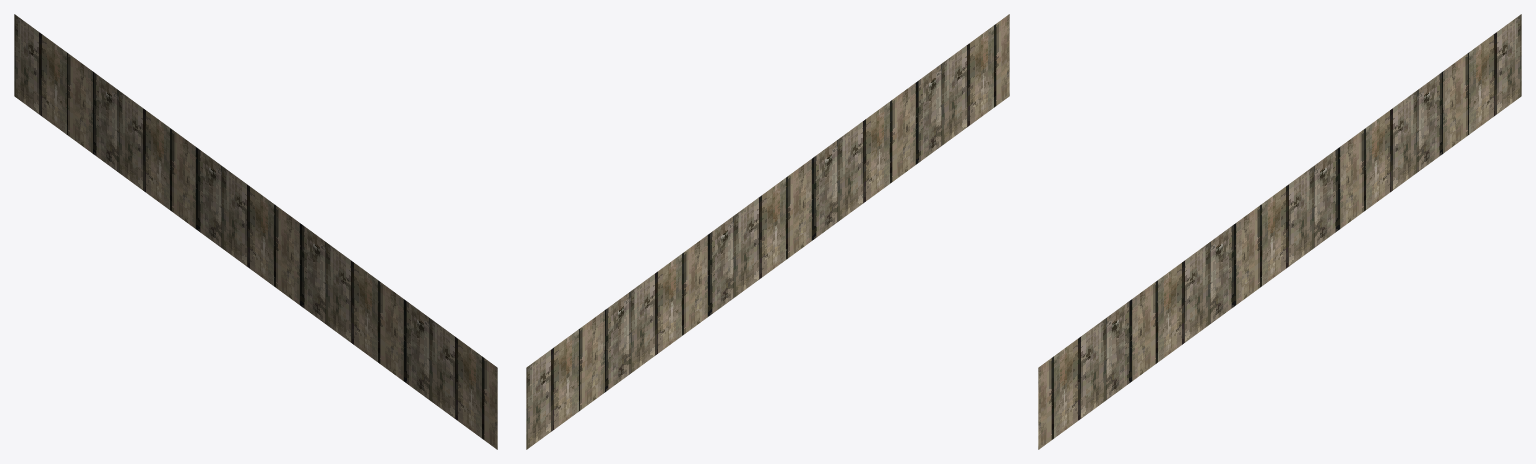
Rendered from LAKETOWN_PUB_PS_PUB_FLOORSIDE83837.fbx.
The picture shows the model from 3 angles, left to right: view 1: azimuth 30°, elevation 25°; view 2: azimuth 150°, elevation 25°; view 3: azimuth 330°, elevation 25°; orthographic projection.
Parts seen in each view (by area): view 1: LAKETOWN_PUB_PS_PUB_FLOORSIDE83837; view 2: LAKETOWN_PUB_PS_PUB_FLOORSIDE83837; view 3: LAKETOWN_PUB_PS_PUB_FLOORSIDE83837.
Part boxes in pixels (left/top/right/bottom): LAKETOWN_PUB_PS_PUB_FLOORSIDE83837: left=14, top=14, right=497, bottom=449; LAKETOWN_PUB_PS_PUB_FLOORSIDE83837: left=526, top=14, right=1009, bottom=449; LAKETOWN_PUB_PS_PUB_FLOORSIDE83837: left=1038, top=14, right=1521, bottom=449.
Bounding box in the file's own units: 0.0114 × 8087 × 85879.
1 material, 1 textured.
